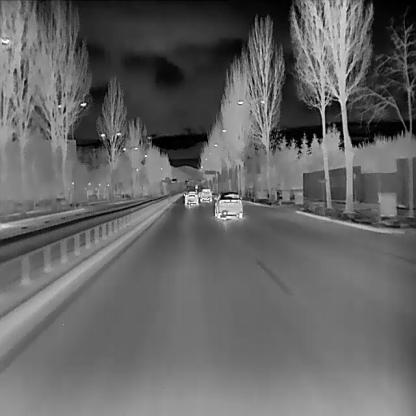car: (213, 190, 243, 219), (183, 190, 199, 206), (199, 188, 212, 202)
